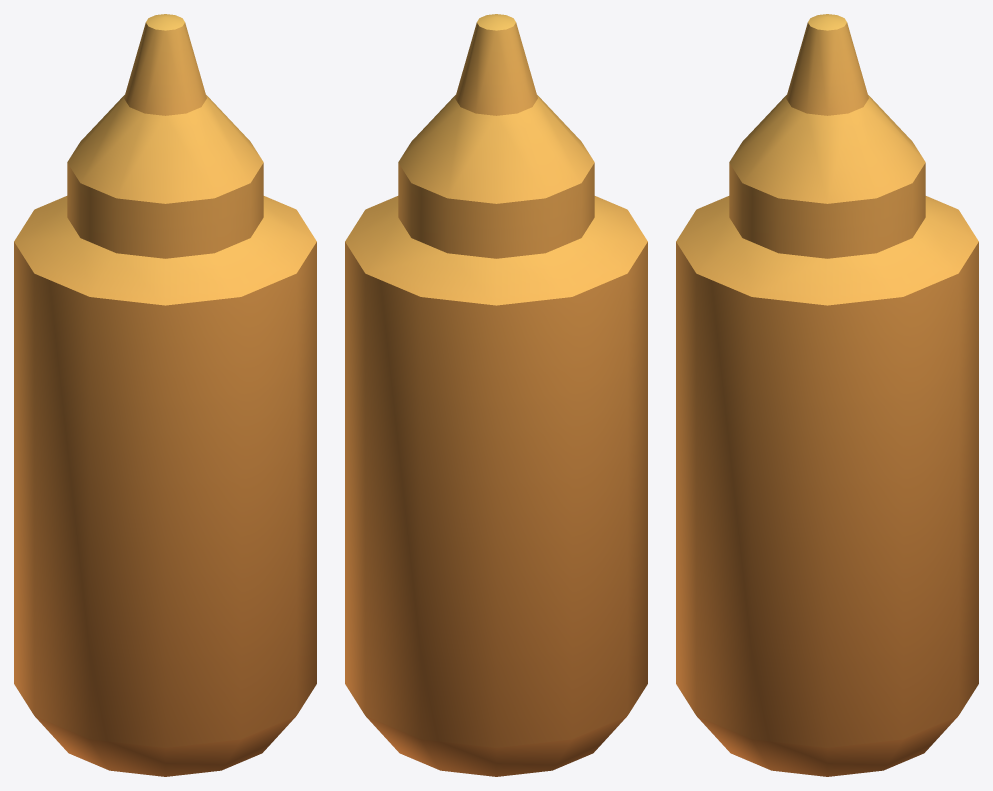
The model's file is Mustard Bottle.glb.
3 renders of one model, left to right at view 1: azimuth 30°, elevation 25°; view 2: azimuth 150°, elevation 25°; view 3: azimuth 270°, elevation 25°, orthographic.
Parts seen in each view (by area): view 1: mustard; view 2: mustard; view 3: mustard.
Boxes of the visible parts, x1,y1,x2,y2 form: mustard: (14, 14, 316, 776); mustard: (345, 14, 647, 776); mustard: (676, 14, 978, 776).
Size of the model in its own units: 0.3 by 0.7785 by 0.3.
Materials: 1 (1 with a texture image).
